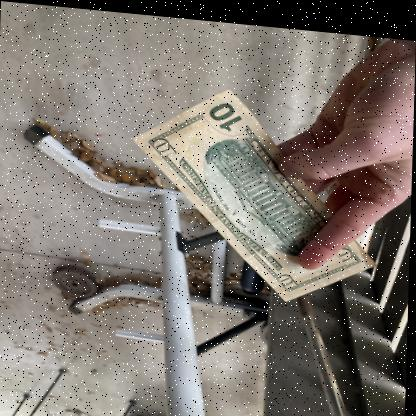ten-back: (137, 88, 375, 306)
